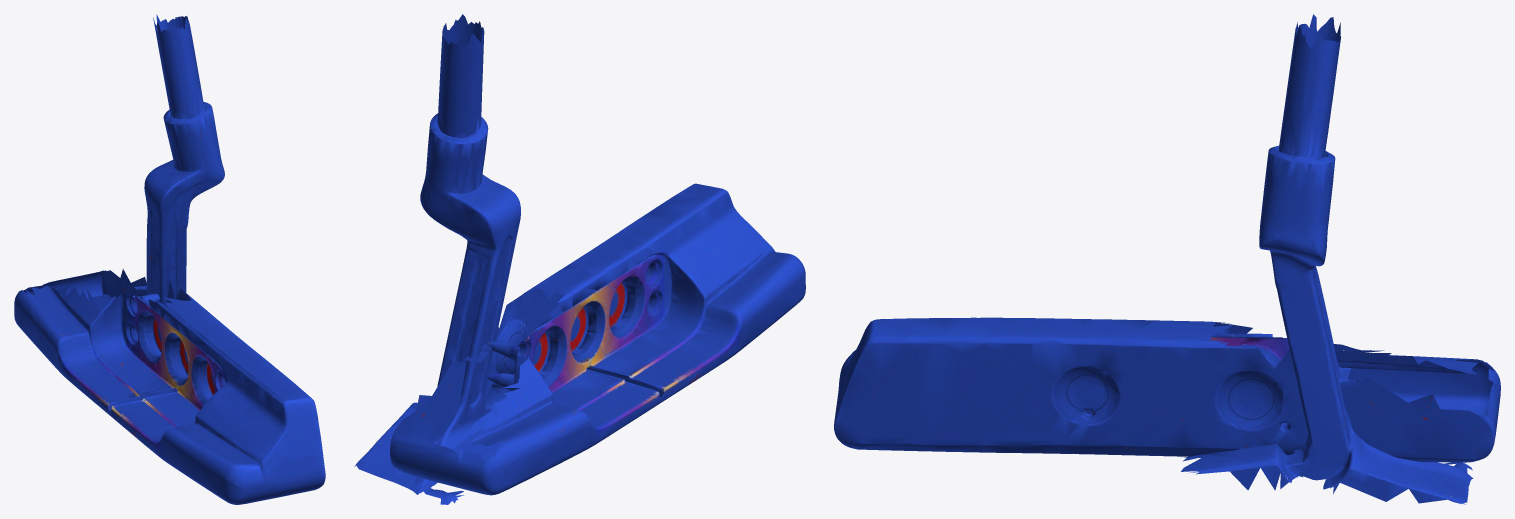
File: putter_oil.glb
3 views of the same model, side by side, from view 1: azimuth 30°, elevation 25°; view 2: azimuth 150°, elevation 25°; view 3: azimuth 270°, elevation 25° (orthographic). The views are drawn at different scales.
Visible parts, largest first — view 1: pHead, pNeck; view 2: pHead, pNeck; view 3: pHead, pNeck.
Boxes of the visible parts, box(x1,y1,x2,y2) form: pHead: box(14, 269, 325, 504); pNeck: box(144, 14, 224, 304); pHead: box(390, 183, 805, 495); pNeck: box(354, 14, 520, 504); pHead: box(834, 317, 1500, 462); pNeck: box(1181, 14, 1473, 504).
Bounding box in the file's own units: 0.0414 × 0.088 × 0.1121.
Materials: 1 (1 with a texture image).
